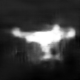plane: (10, 22, 77, 63)
